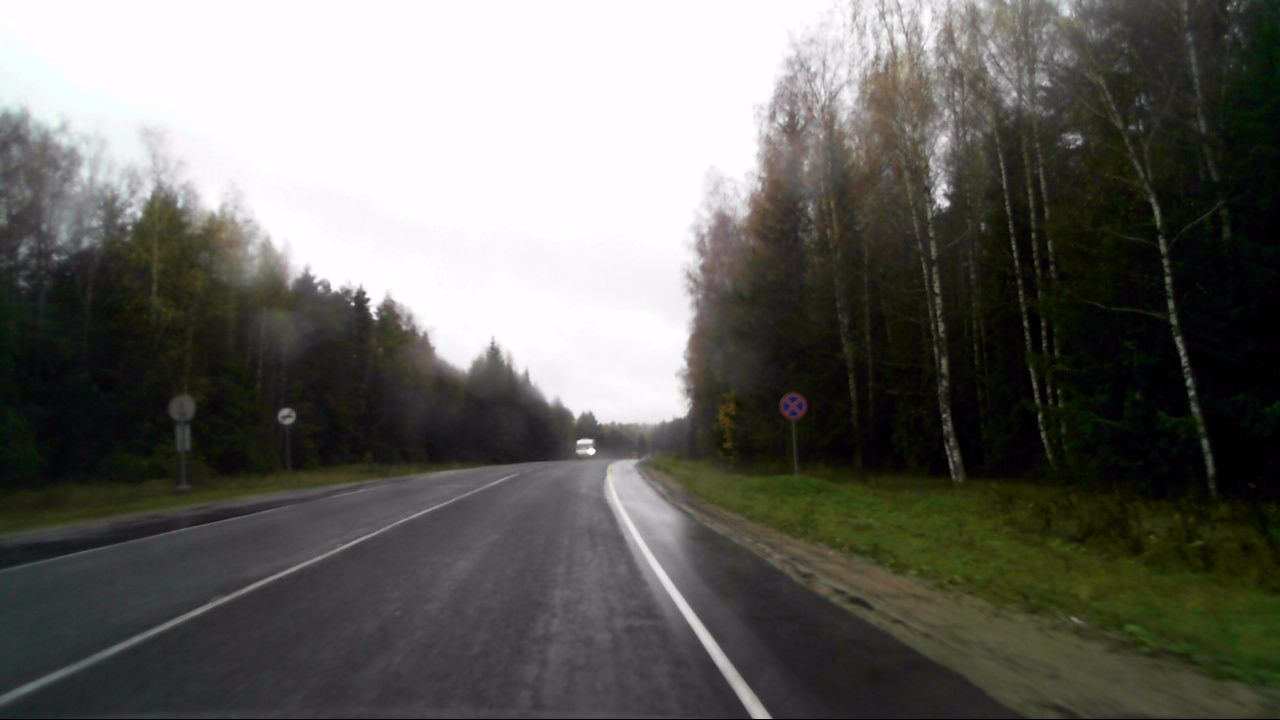No Parking: (779, 390, 808, 422)
